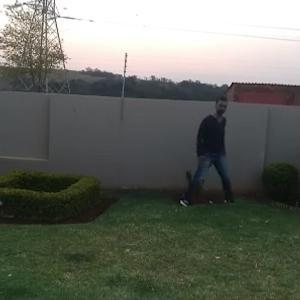follow: (191, 94, 227, 212)
